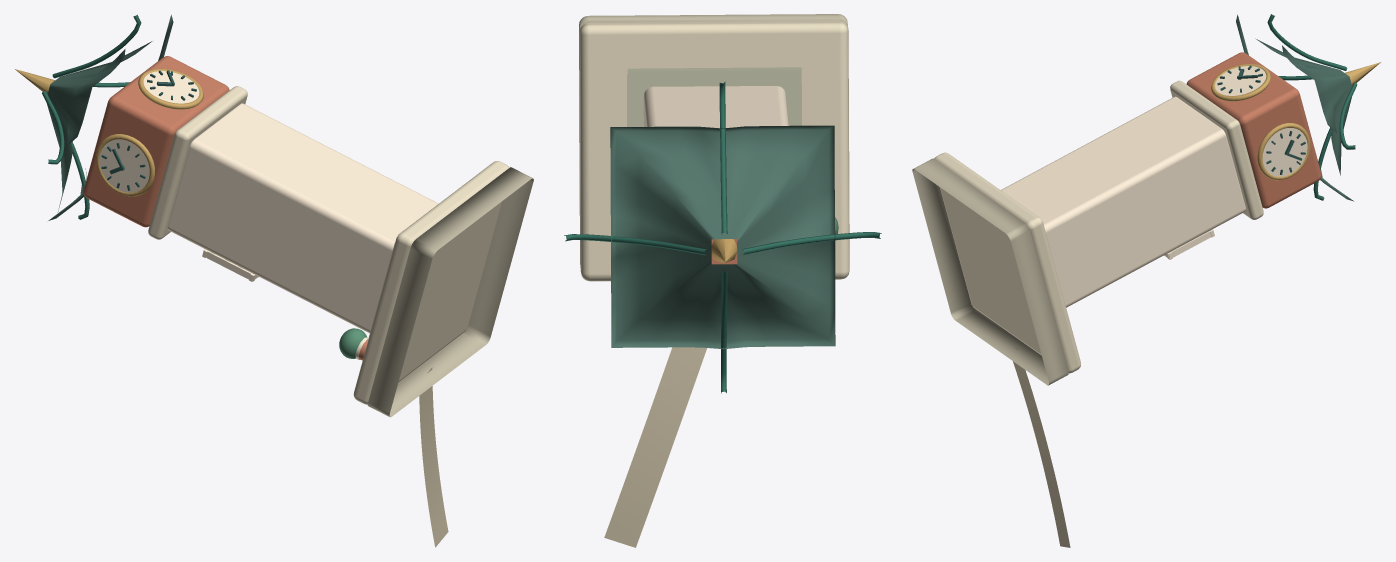
File: clockTower.glb
3 renders of one model, left to right at view 1: azimuth 30°, elevation 25°; view 2: azimuth 150°, elevation 25°; view 3: azimuth 270°, elevation 25°, orthographic. The views are drawn at different scales.
Parts seen in each view (by area): view 1: clockTower (×9); view 2: clockTower (×8); view 3: clockTower (×9).
Boxes of the visible parts, left/top/right/bottom form: clockTower (×9): left=15, top=14, right=533, bottom=547; clockTower (×8): left=564, top=14, right=881, bottom=547; clockTower (×9): left=912, top=14, right=1380, bottom=547.
Size of the model in its own units: 0.4212 by 0.5501 by 0.5192.
